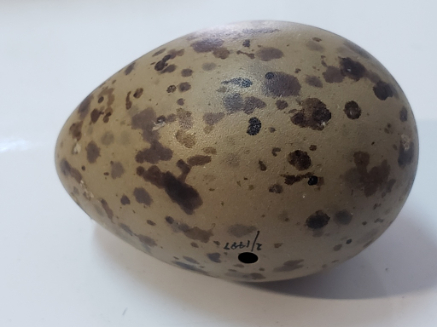egg: (34, 11, 428, 287)
